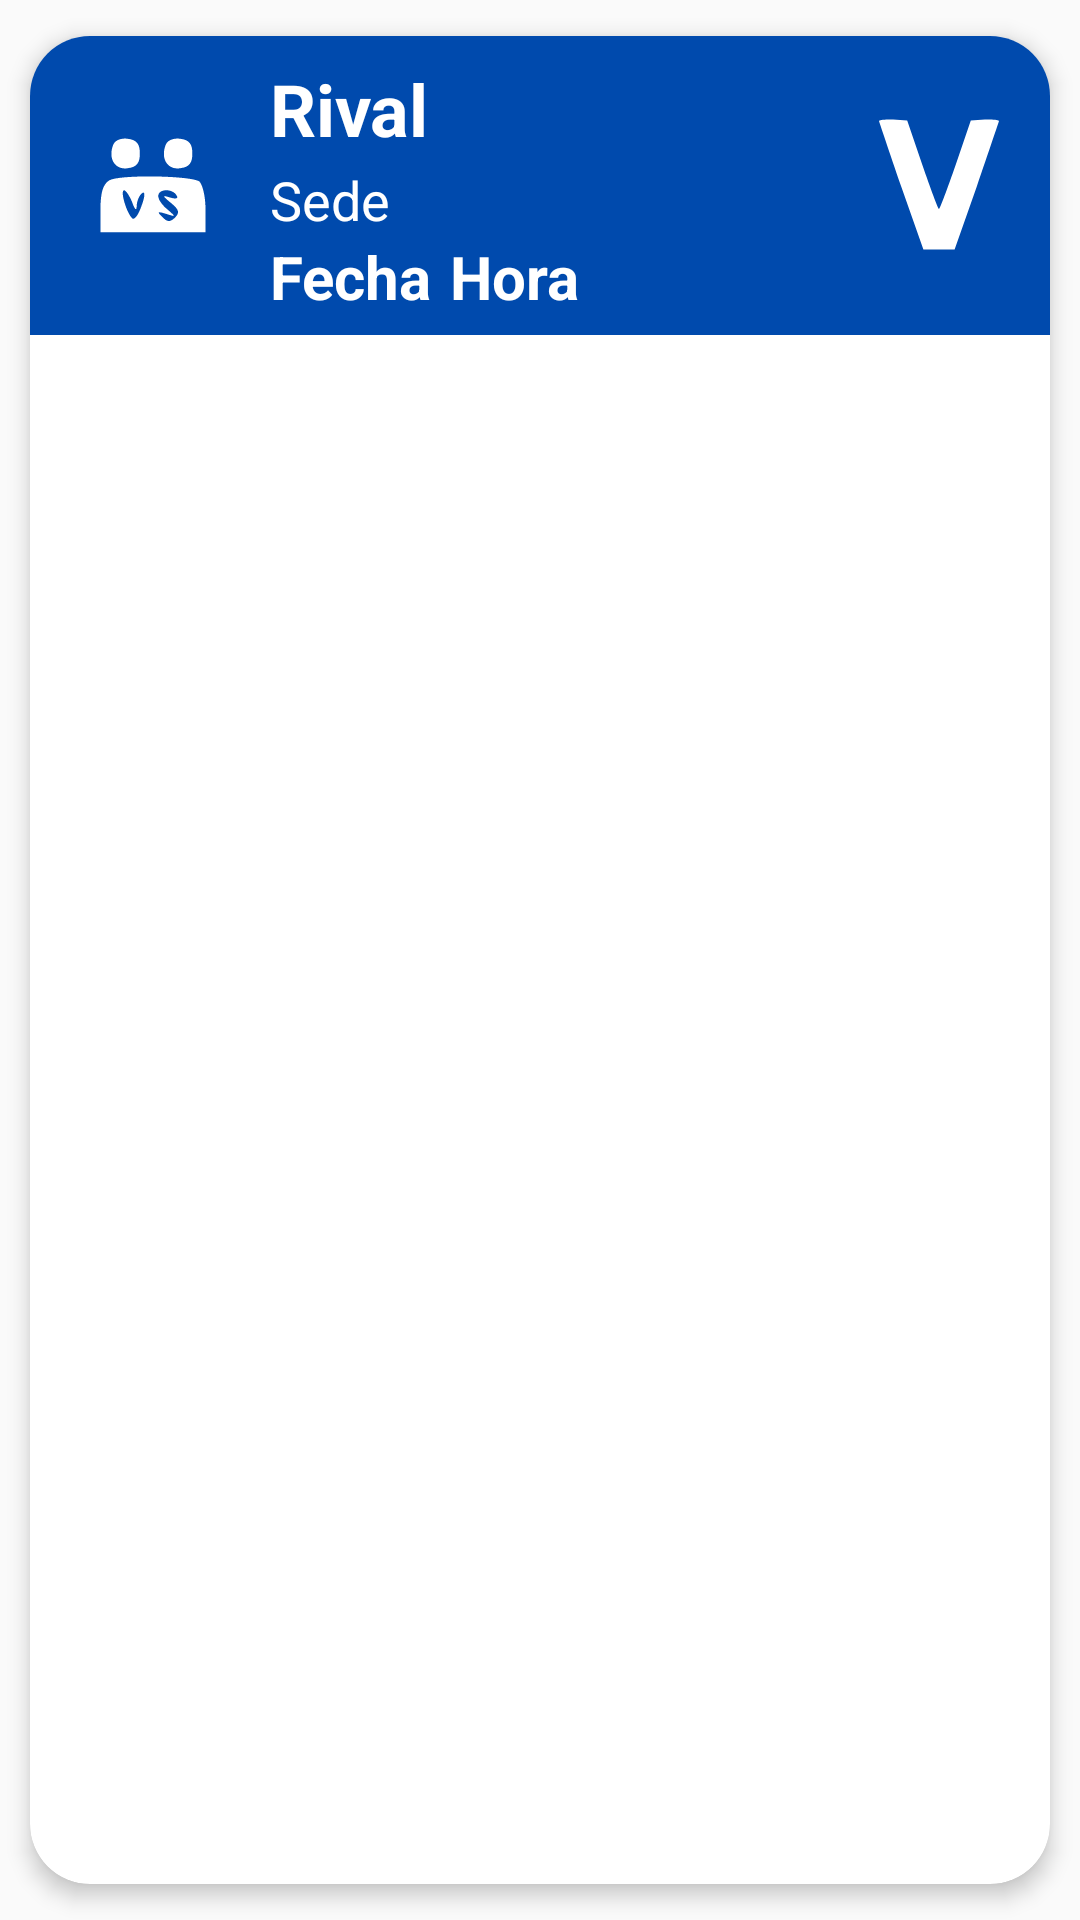

Named icons in this screenshot (1080×1920) and their bounding boxes, (x1, y1, x2, y2):
partidos: (100, 138, 206, 233)
victoria: (879, 119, 999, 250)
